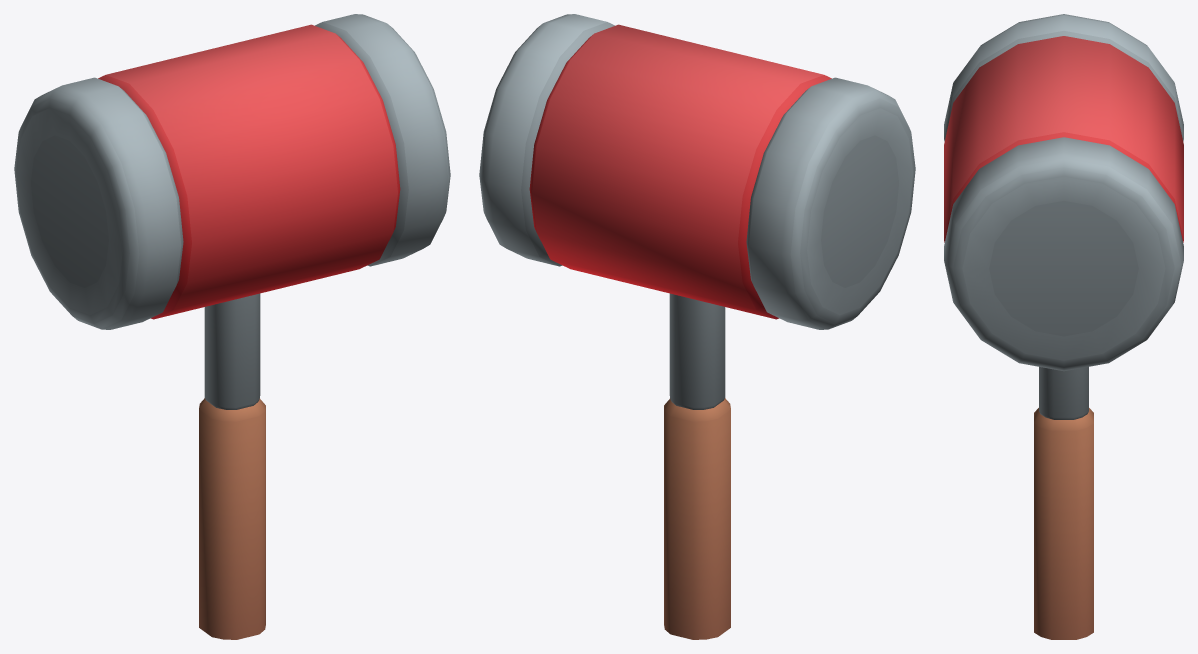
Rendered from hammer.glb.
3 views of the same model, side by side, from view 1: azimuth 30°, elevation 25°; view 2: azimuth 150°, elevation 25°; view 3: azimuth 270°, elevation 25° (orthographic). The views are drawn at different scales.
Parts seen in each view (by area): view 1: hammer_large_red; view 2: hammer_large_red; view 3: hammer_large_red.
Part boxes in pixels (x1,y1,x2,y2): hammer_large_red: (14, 14, 450, 639); hammer_large_red: (479, 14, 915, 639); hammer_large_red: (944, 14, 1183, 639).
Bounding box in the file's own units: 6 × 10 × 4.
1 material, 1 textured.
